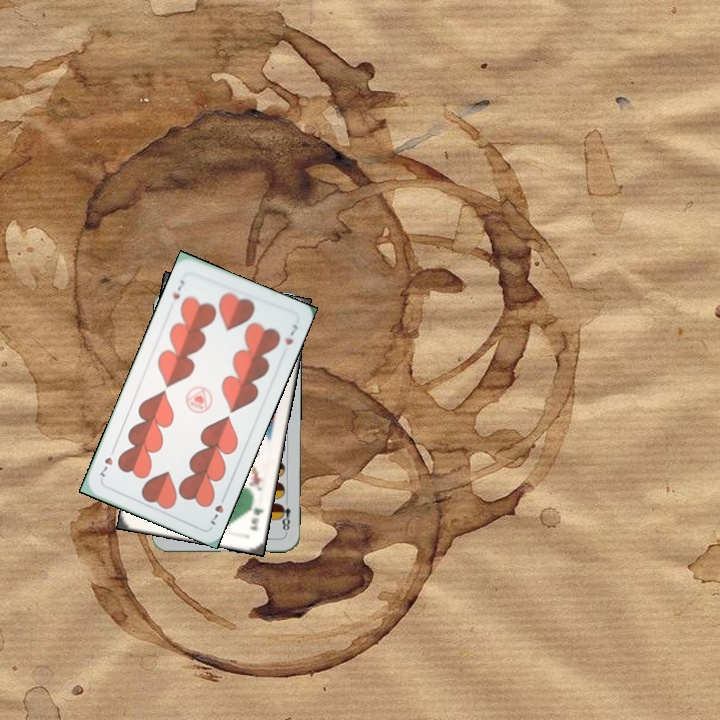E8: (276, 495, 293, 536)
GK: (246, 503, 267, 533)
H7: (206, 490, 229, 528), (168, 276, 187, 302)
